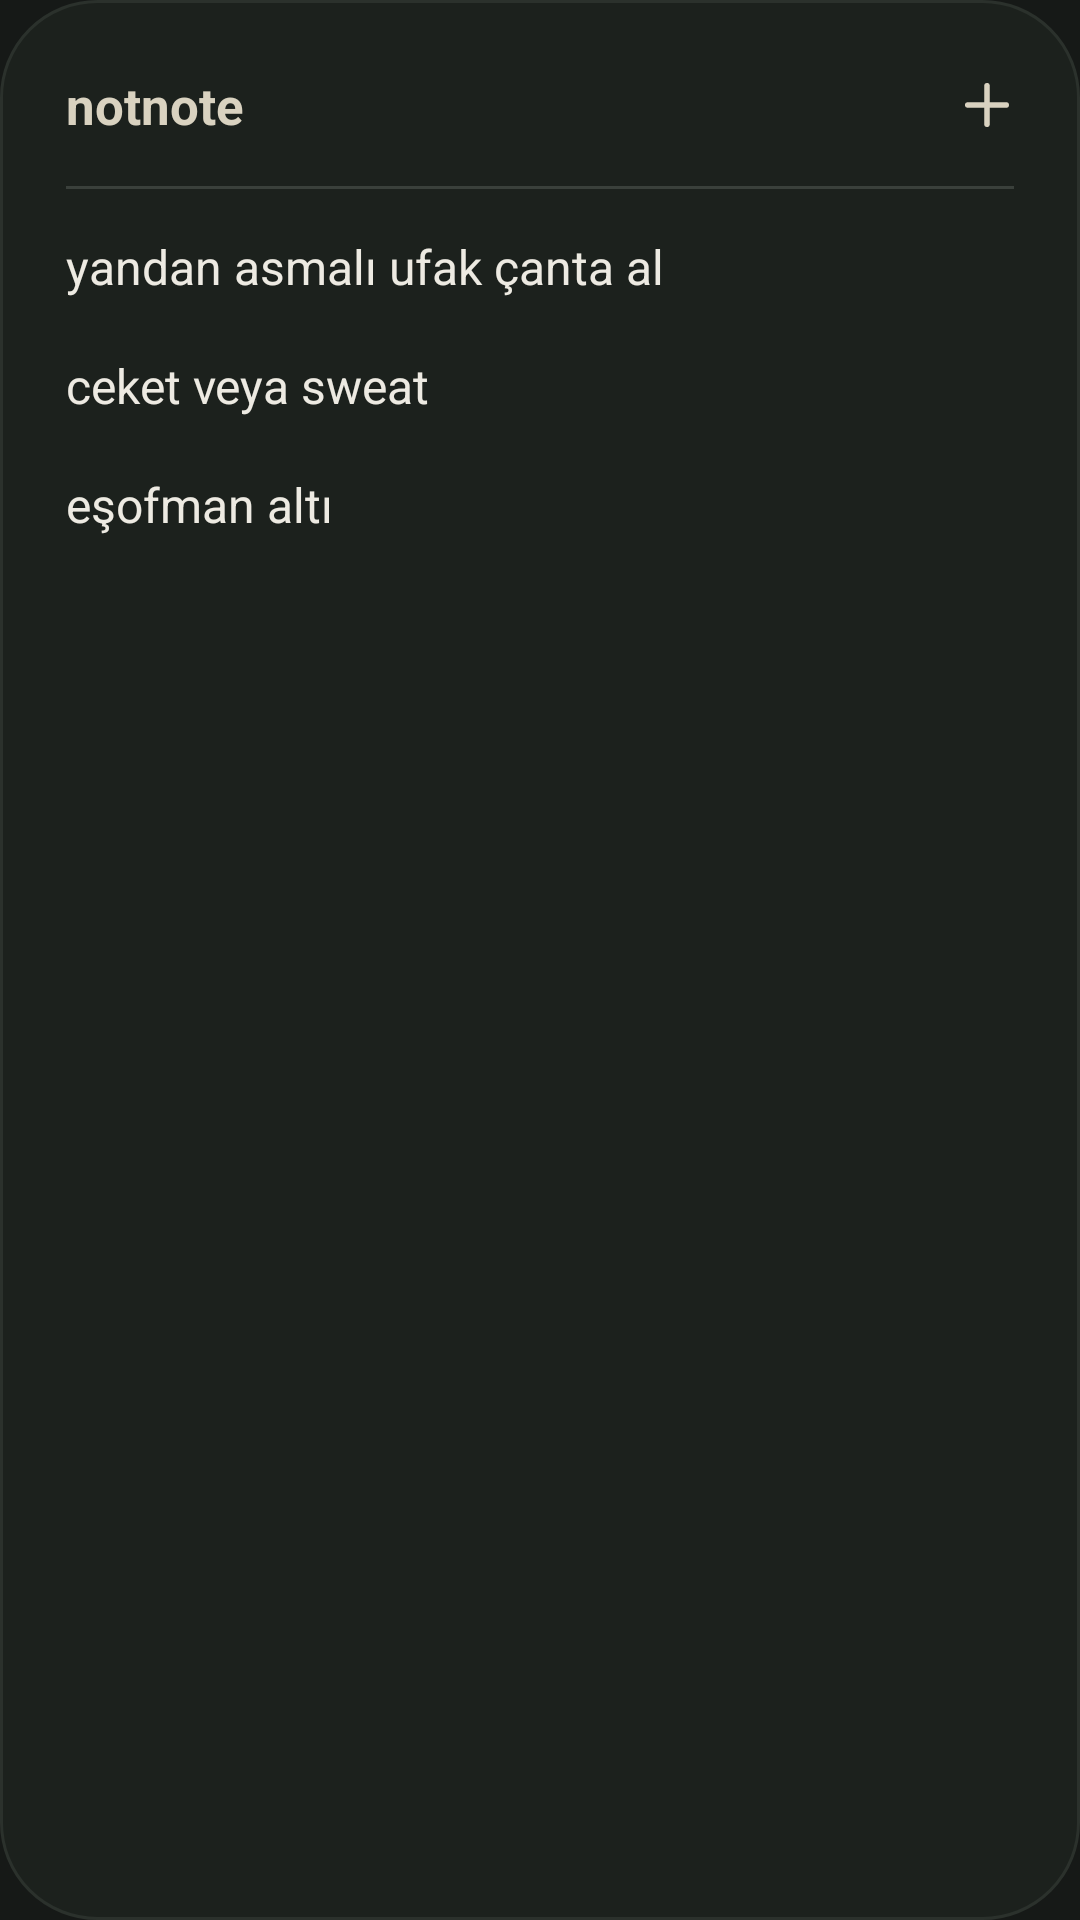

Icons on this 1080 × 1920 Android screen, each with its box as (x1, y1, x2, y2):
Yeni not: (965, 83, 1009, 127)
